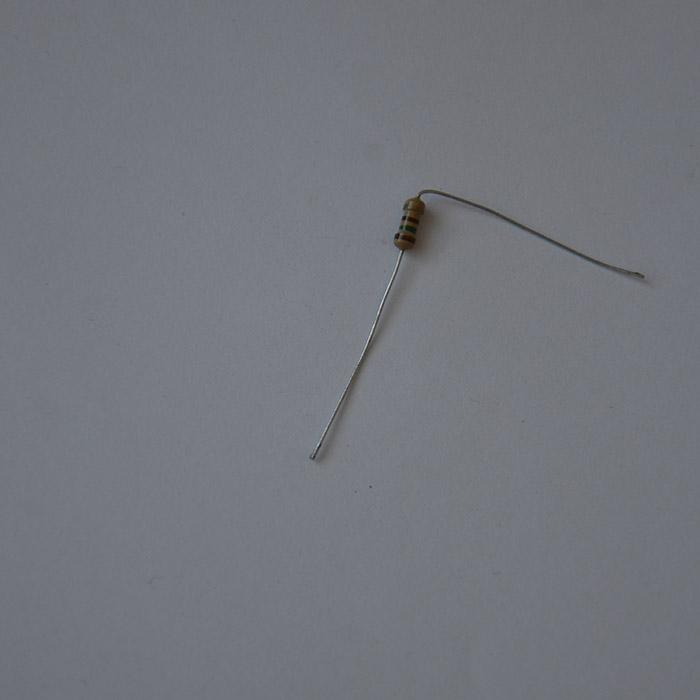resistor: (393, 197, 425, 251)
